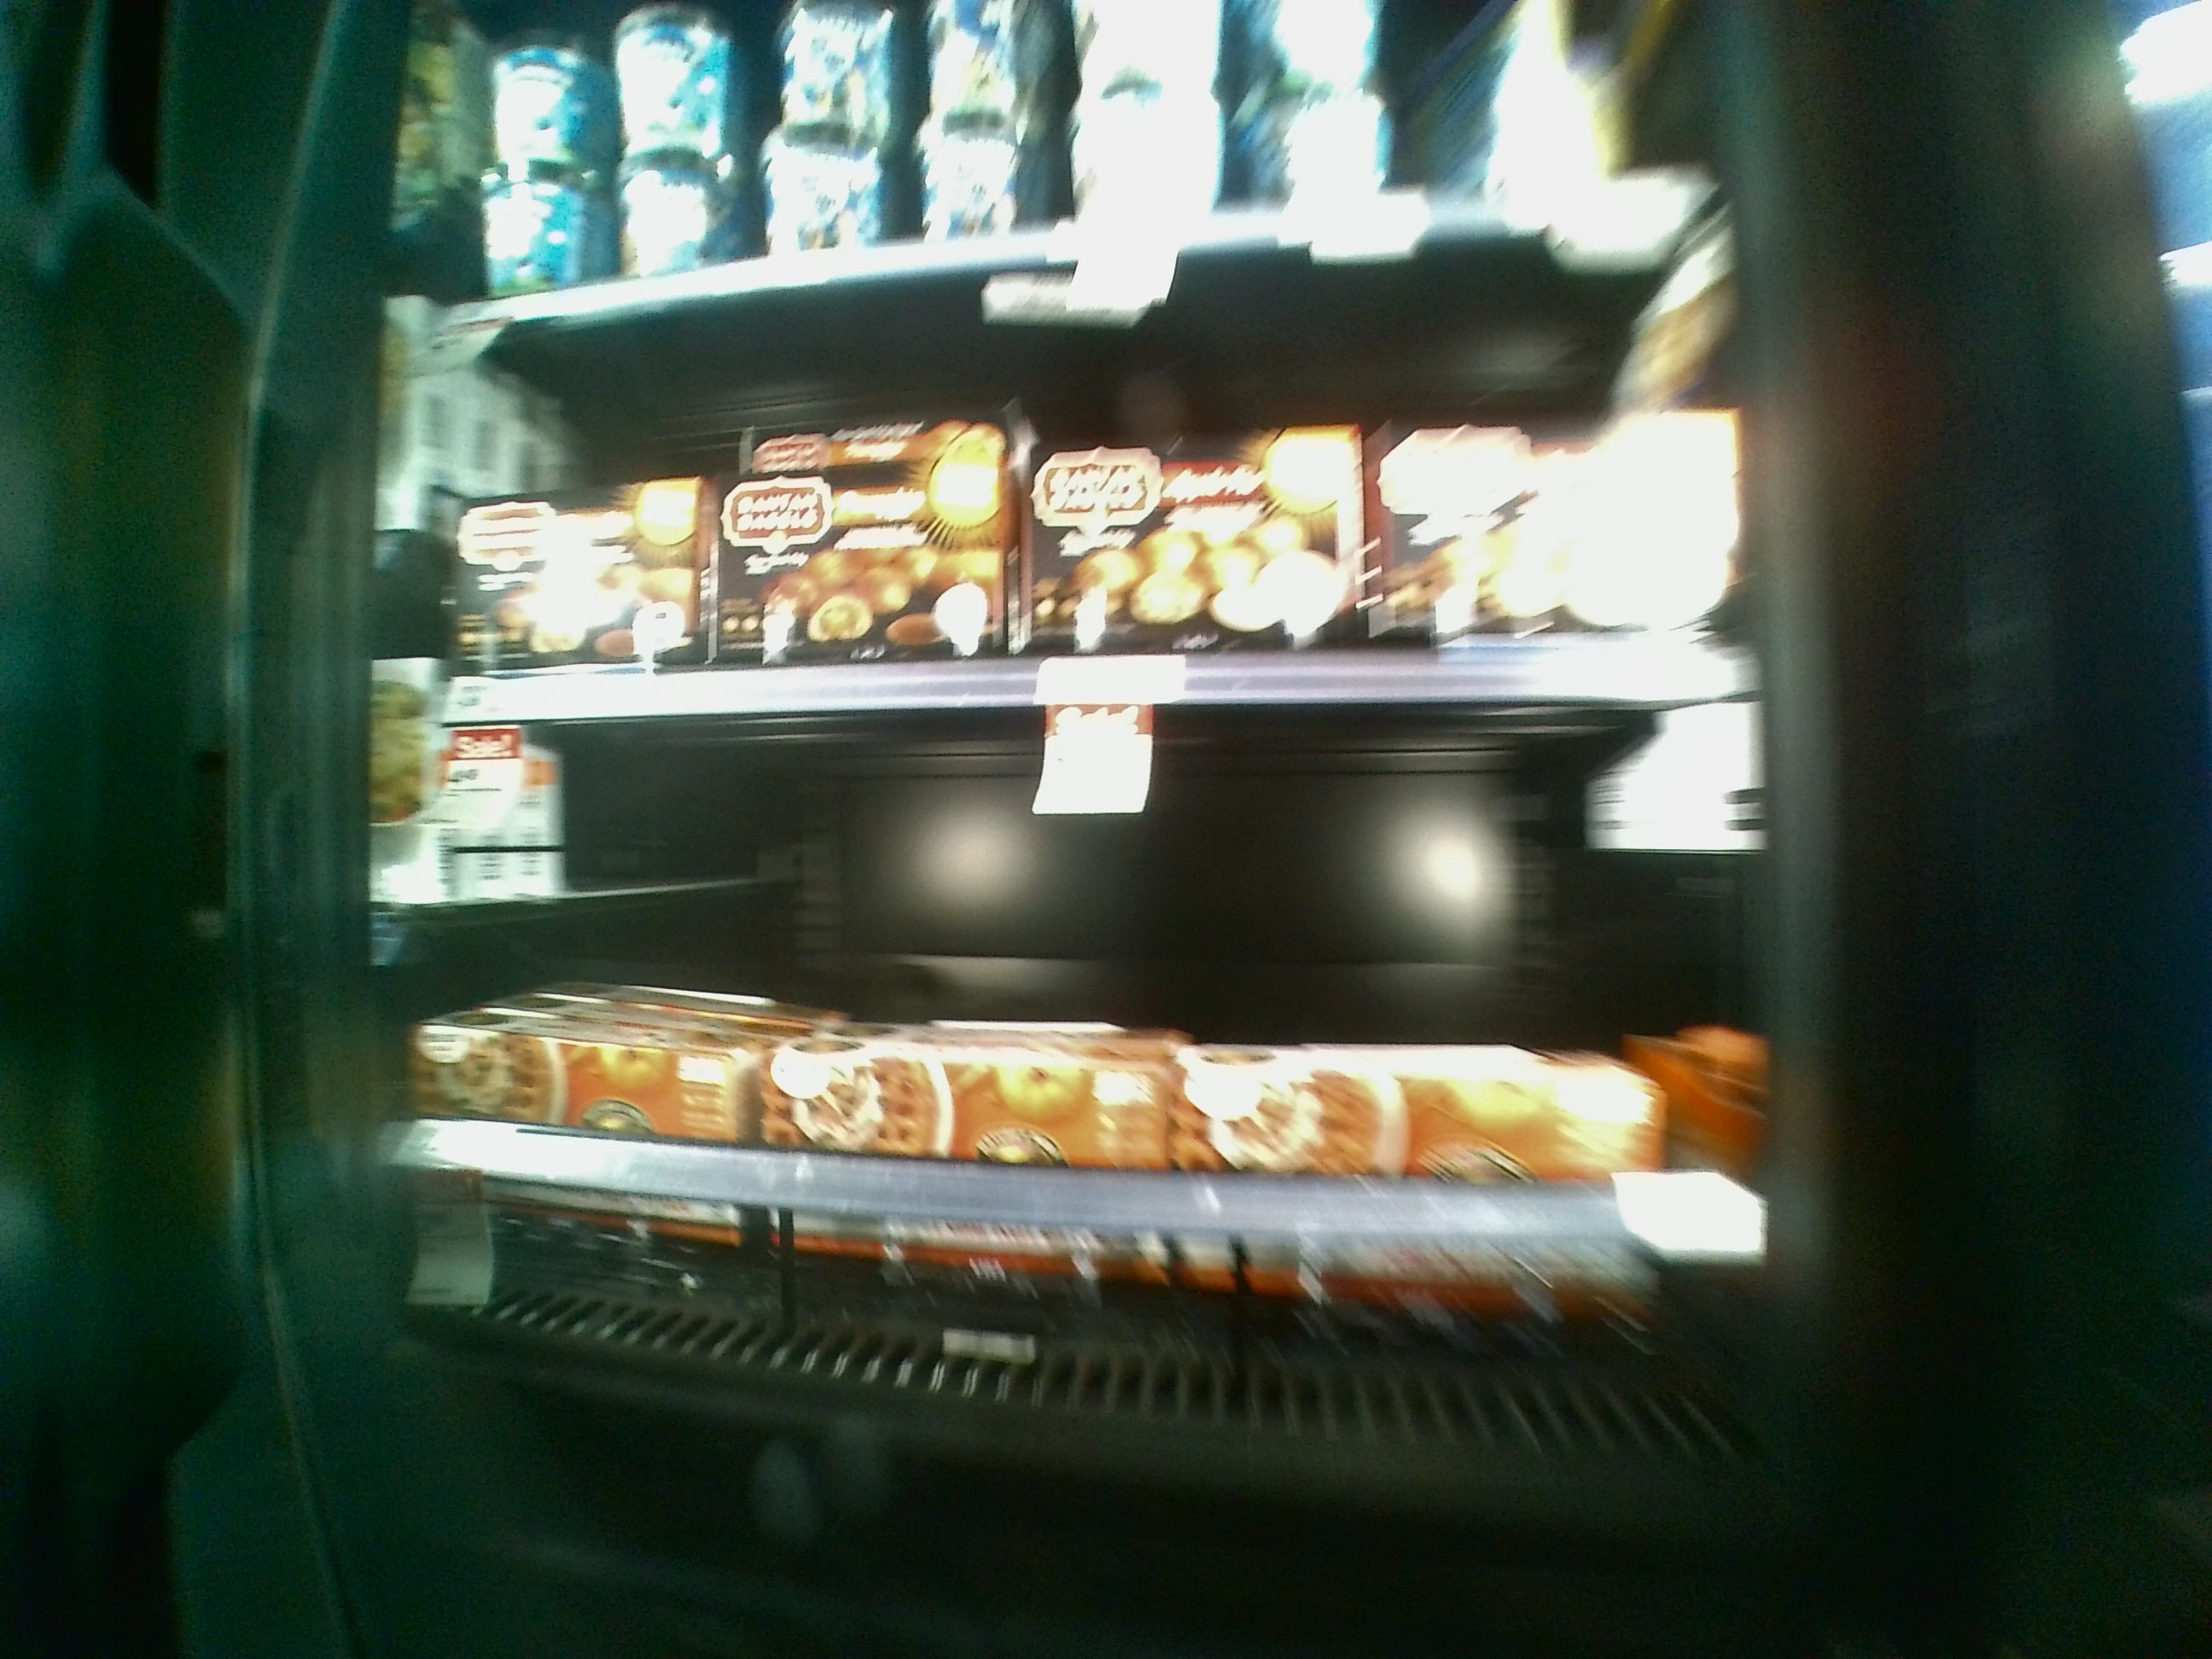shelf: (394, 678, 1791, 1459), (404, 295, 1754, 699)
